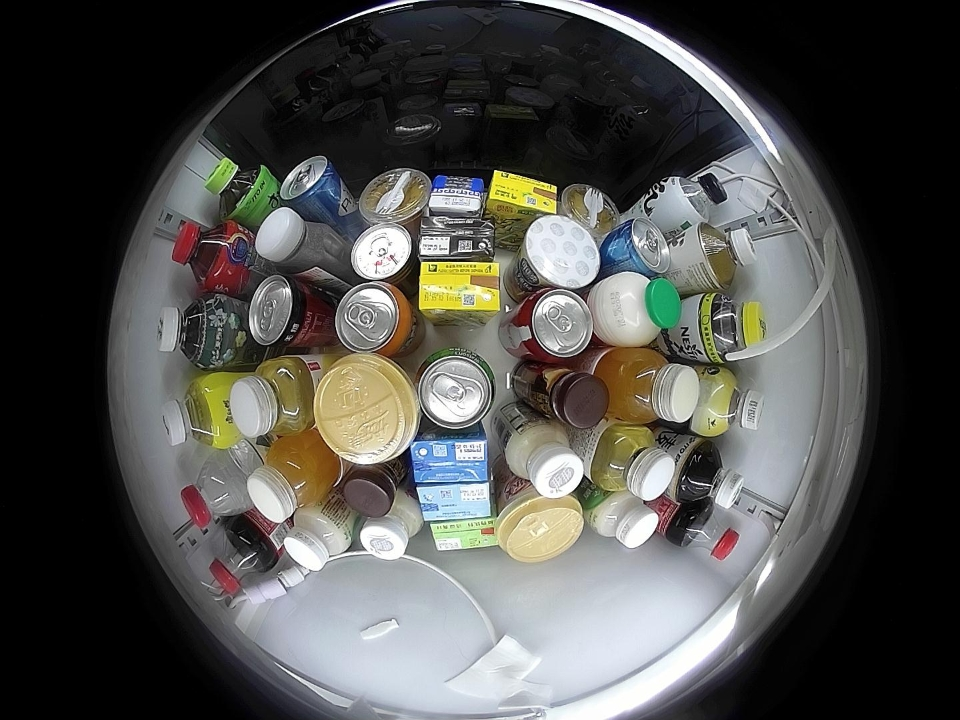anmuxi: (428, 175, 484, 217)
asamu: (696, 367, 764, 435)
binghongcha: (172, 220, 243, 292)
bingtangxueli: (162, 373, 237, 451)
chacui: (696, 292, 765, 363)
chapai2: (227, 355, 316, 438), (590, 423, 675, 500)
damaicha: (676, 437, 744, 509)
fenda: (334, 281, 414, 355)
hongniu2: (350, 223, 416, 283)
kebike: (517, 214, 600, 289)
kele: (522, 288, 594, 361)
kele-b: (208, 529, 269, 598), (675, 505, 740, 561)
lingdukele: (249, 274, 318, 350)
liziyuan: (594, 273, 680, 348)
lujikafei: (534, 365, 608, 430), (341, 457, 401, 517)
moliqingcha: (156, 295, 228, 369)
nongfushanquan: (179, 452, 252, 529)
qingdaowangzi-2: (279, 156, 344, 216), (610, 219, 672, 276)
quchenshixiangcao: (415, 348, 497, 429)
rancha-2: (694, 224, 757, 290)
wanglaoji: (428, 517, 498, 552)
weic: (597, 347, 702, 425), (246, 434, 339, 522)
weitanai: (408, 431, 488, 484)
weitanai2: (418, 217, 494, 263)
weitanaiditang: (417, 481, 494, 521)
weitaningmeng: (419, 261, 500, 320), (488, 168, 557, 221)
weiweidounai: (505, 420, 584, 498), (359, 493, 424, 560)
xianguolao: (359, 168, 431, 225), (562, 183, 618, 233)
yitengyuan: (204, 155, 271, 221)
youlemei: (313, 354, 417, 464), (496, 490, 584, 563)
yousuanru: (279, 504, 355, 573), (587, 489, 659, 548)
youyanggudong: (256, 207, 339, 276)
yuanqishui: (653, 173, 728, 231)
